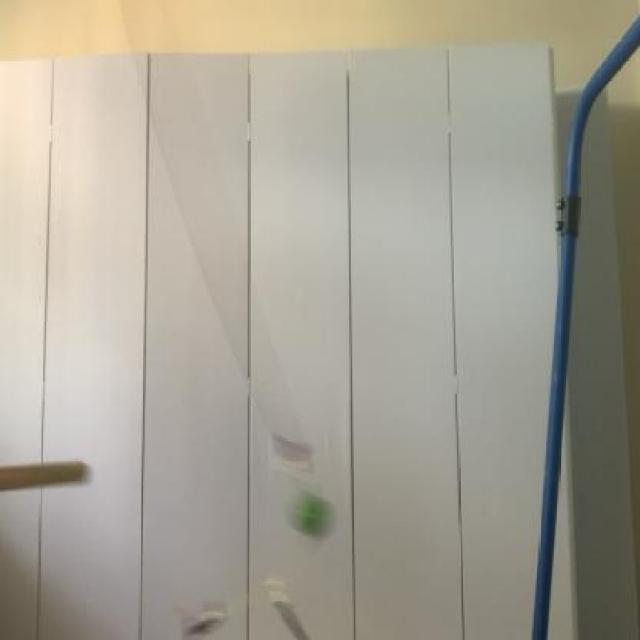baseball: (277, 482, 338, 544)
